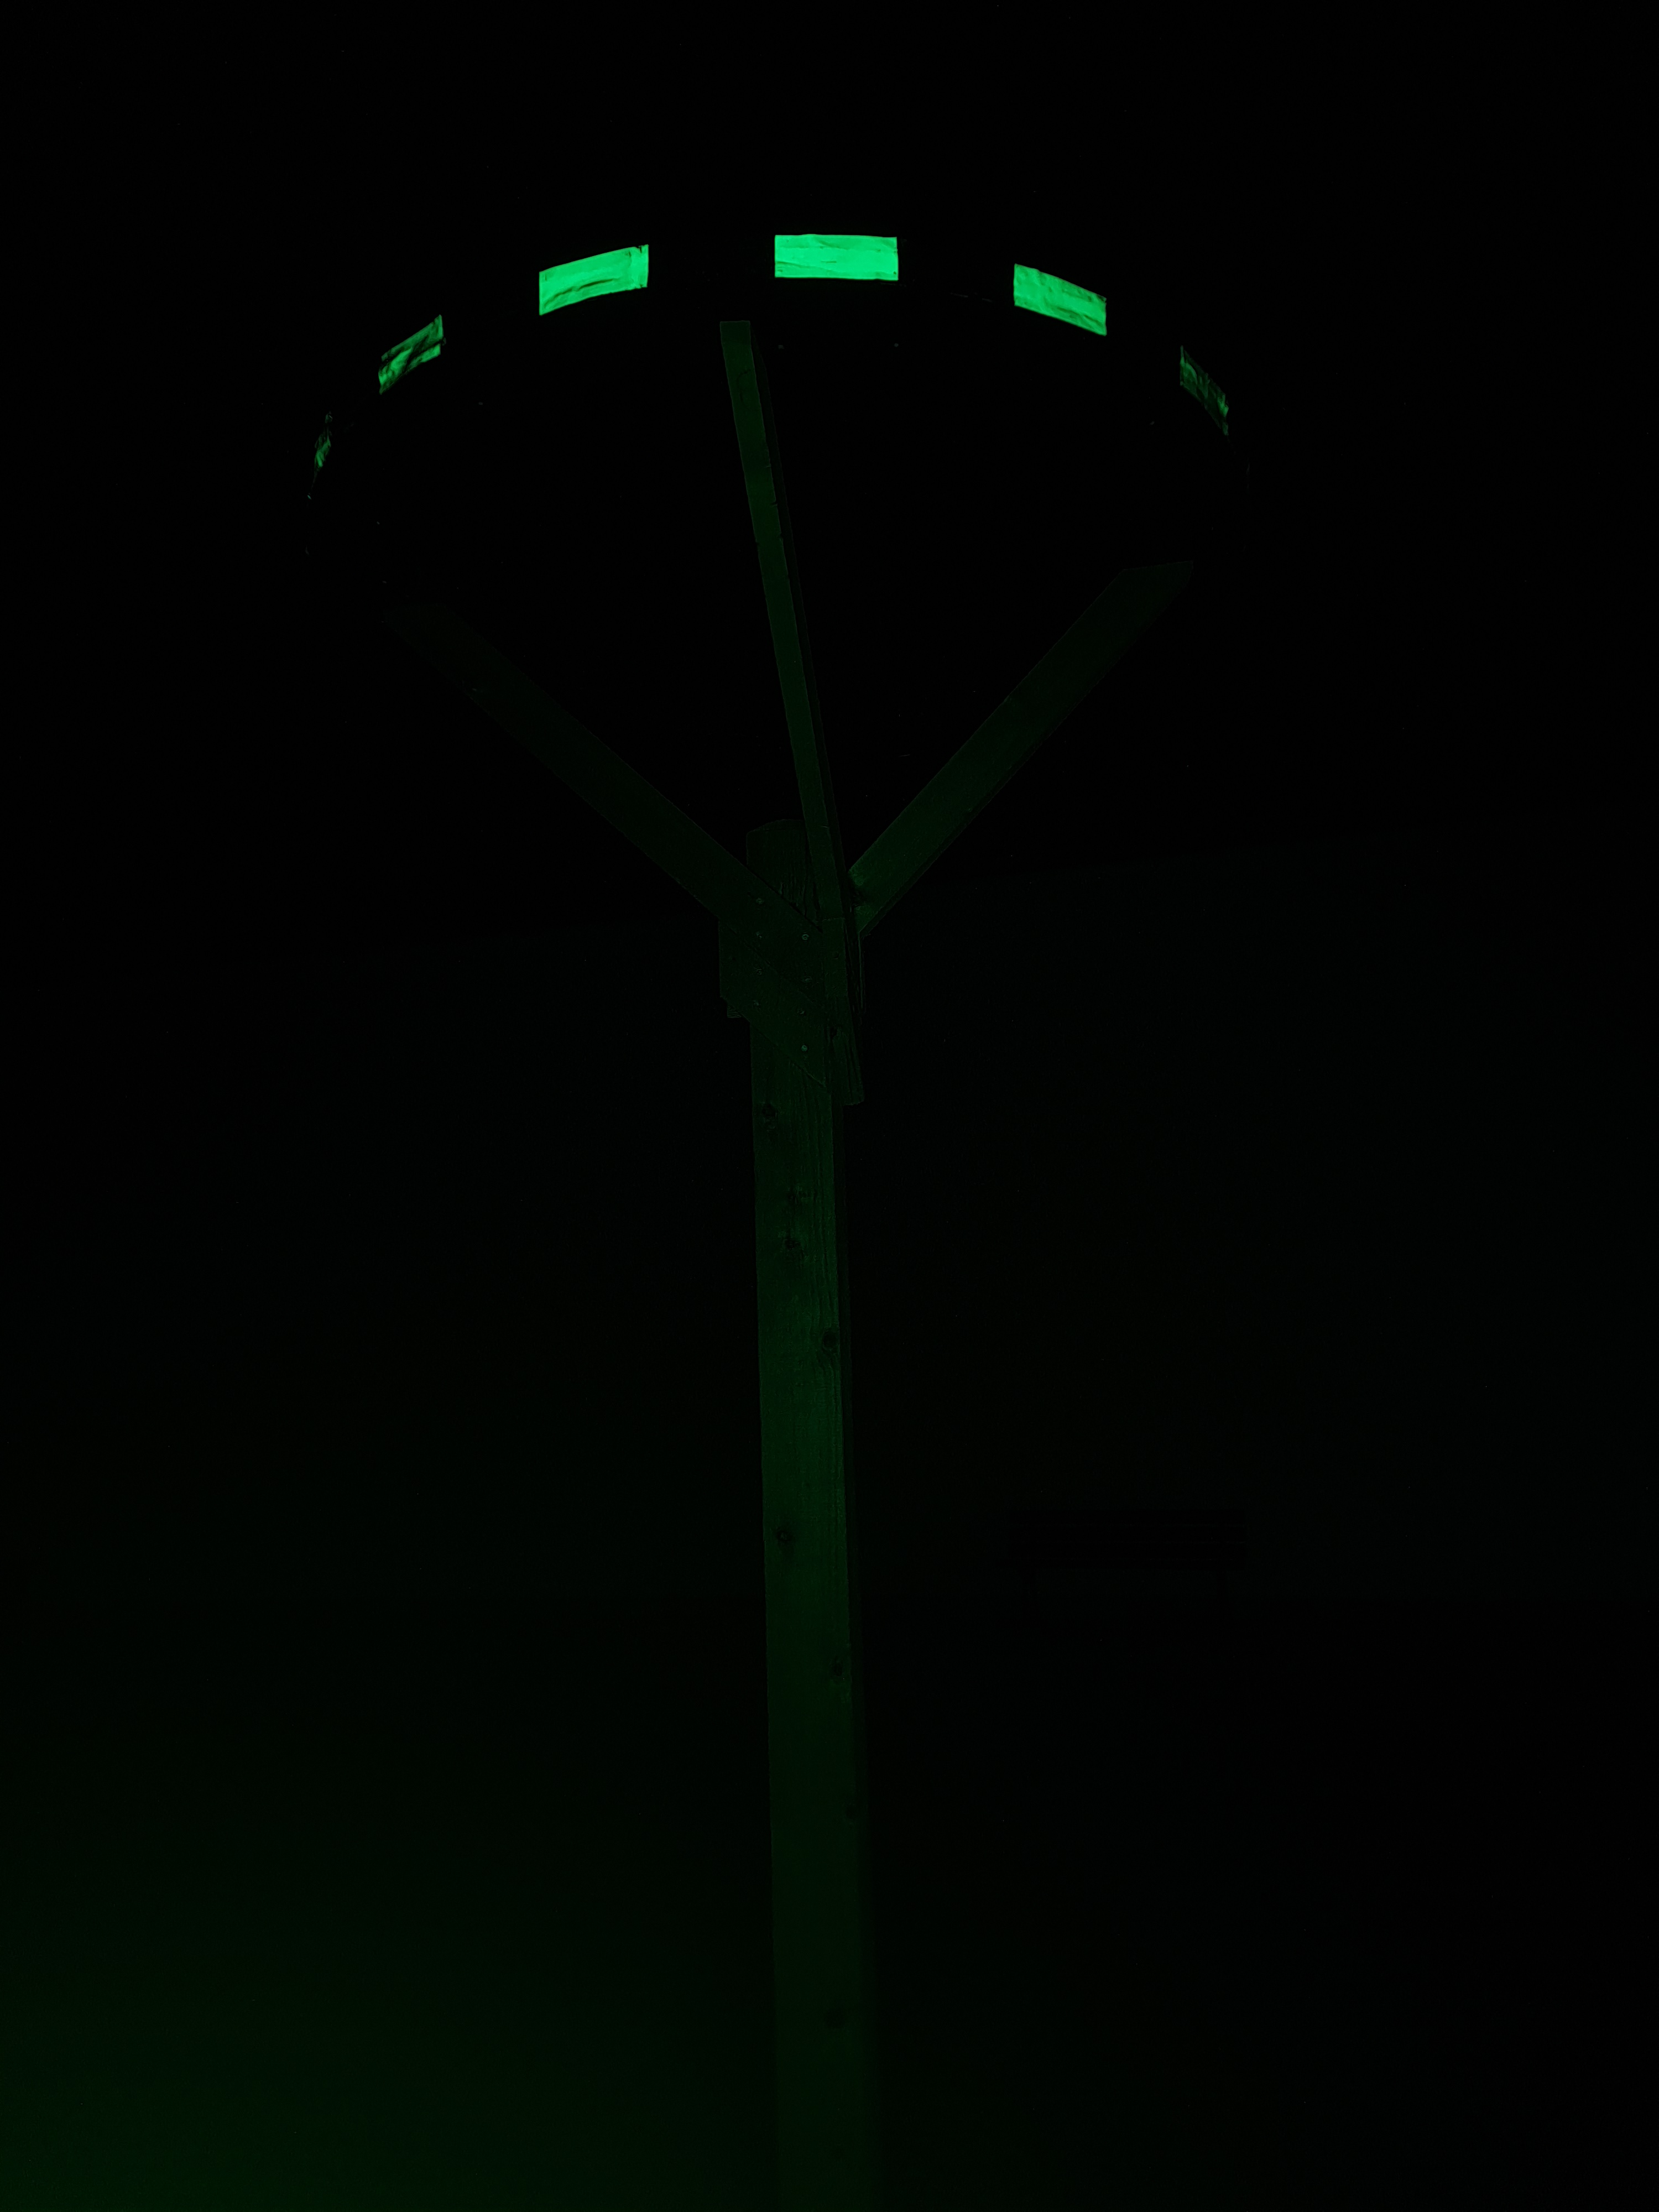hoop: (305, 219, 1239, 470)
